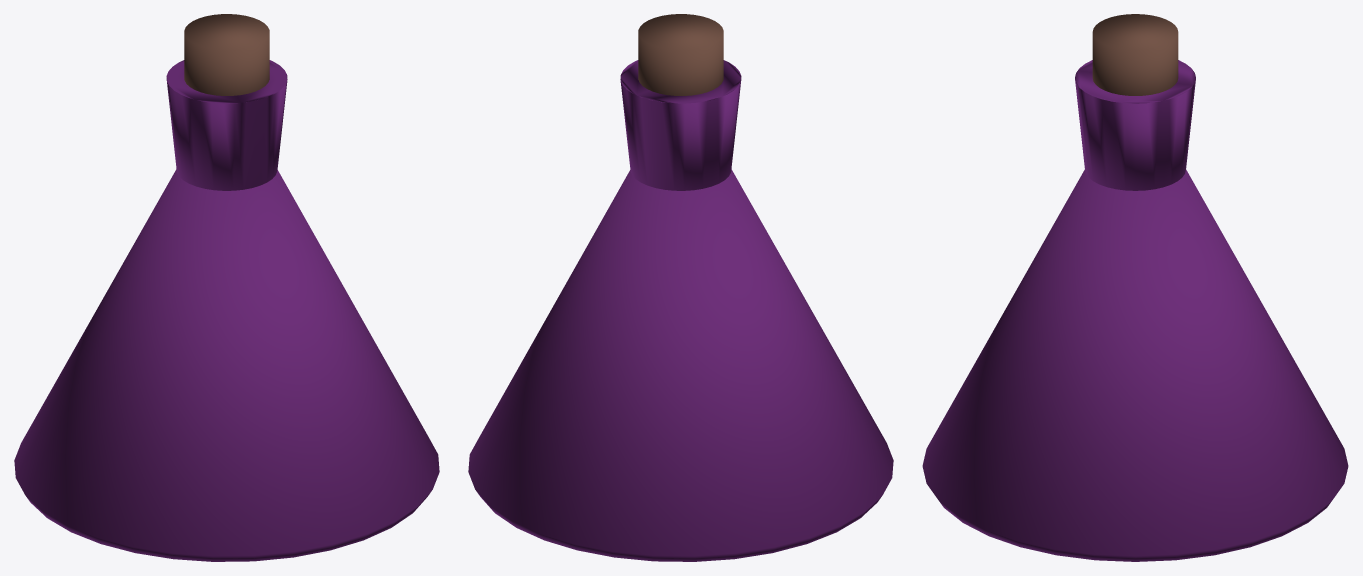
Rendered from PURPLE CONE POTION.glb.
3 renders of one model, left to right at view 1: azimuth 30°, elevation 25°; view 2: azimuth 150°, elevation 25°; view 3: azimuth 270°, elevation 25°, orthographic.
Visible parts, largest first — view 1: Cone, Cylinder; view 2: Cone, Cylinder; view 3: Cone, Cylinder.
Boxes of the visible parts, bbox=[...] form: Cone: bbox=[14, 169, 439, 561]; Cylinder: bbox=[166, 14, 287, 190]; Cone: bbox=[468, 169, 893, 561]; Cylinder: bbox=[620, 14, 741, 190]; Cone: bbox=[922, 169, 1348, 561]; Cylinder: bbox=[1075, 14, 1195, 190].
Bounding box in the file's own units: 1.96 × 2.24 × 1.96.
